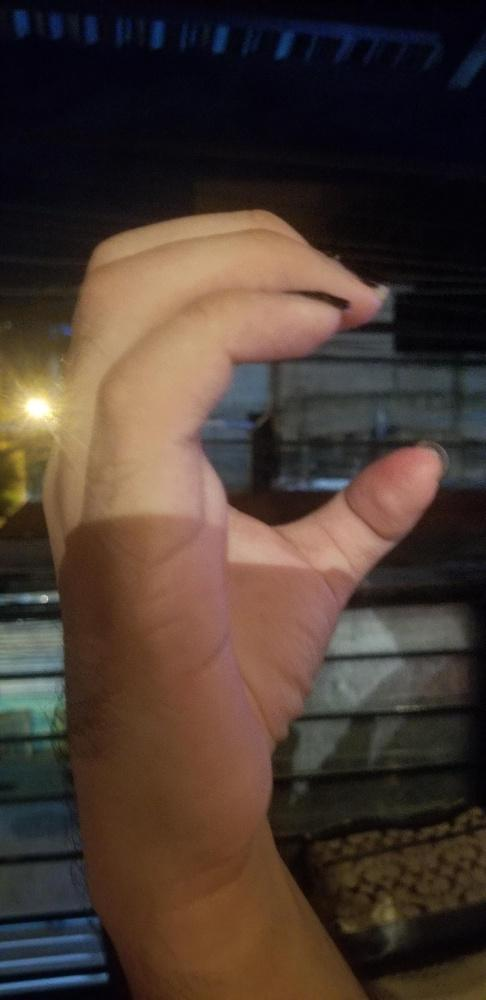c: (55, 204, 446, 852)
